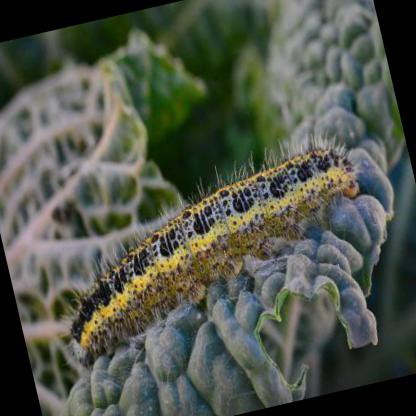pieris: (71, 142, 362, 364)
